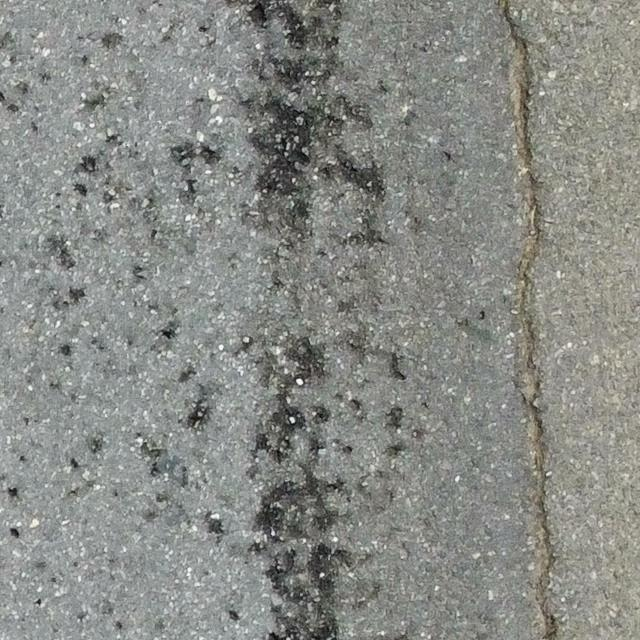LongitudinalCrack: (498, 1, 557, 640)
